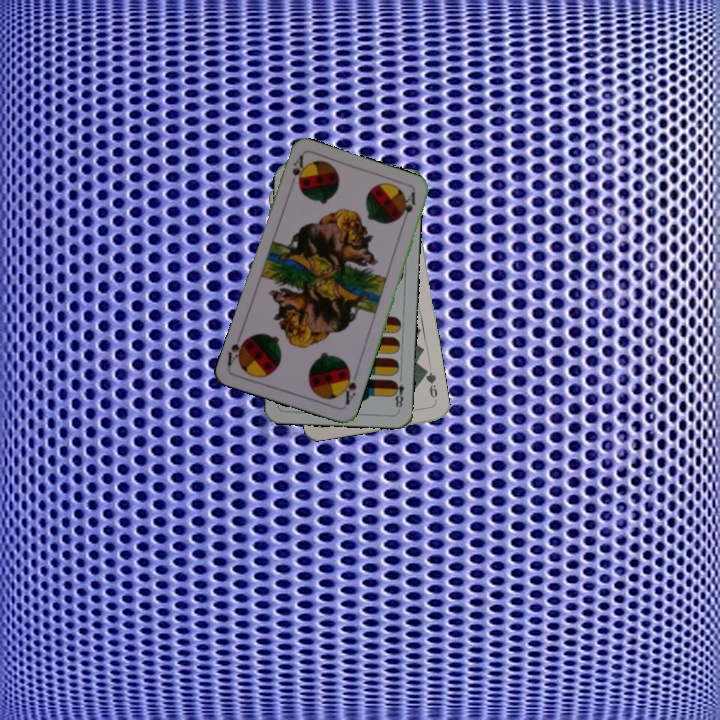E8: (389, 372, 407, 410)
G9: (421, 366, 440, 406)
SA: (338, 367, 360, 408), (288, 151, 308, 188)
